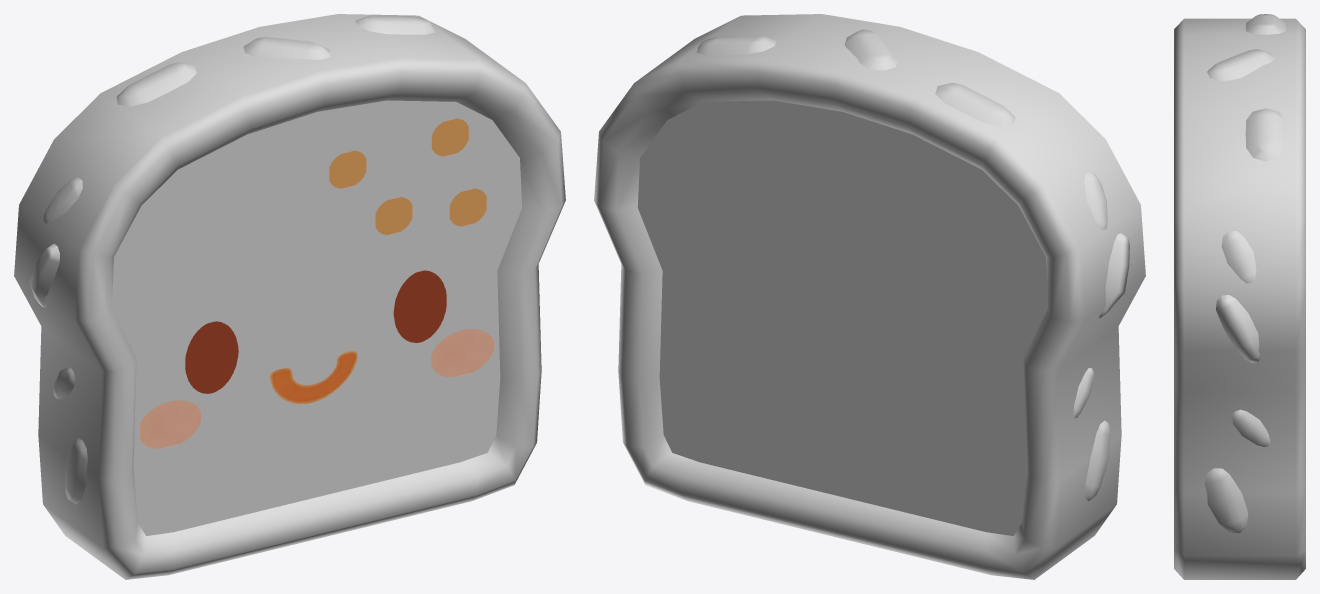
The model's file is Homestead_mbf_sy_4.fbx.
3 renders of one model, left to right at view 1: azimuth 30°, elevation 25°; view 2: azimuth 150°, elevation 25°; view 3: azimuth 270°, elevation 25°, orthographic. The views are drawn at different scales.
Visible parts, largest first — view 1: Homestead_mbf_sy_4, Homestead_mbf_sy_4_01; view 2: Homestead_mbf_sy_4; view 3: Homestead_mbf_sy_4.
Boxes of the visible parts, box(x1,y1,x2,y2) form: Homestead_mbf_sy_4: box(14, 14, 565, 579); Homestead_mbf_sy_4_01: box(139, 118, 494, 448); Homestead_mbf_sy_4: box(594, 14, 1145, 579); Homestead_mbf_sy_4: box(1174, 14, 1305, 579).
Bounding box in the file's own units: 107 × 94.41 × 25.78.
